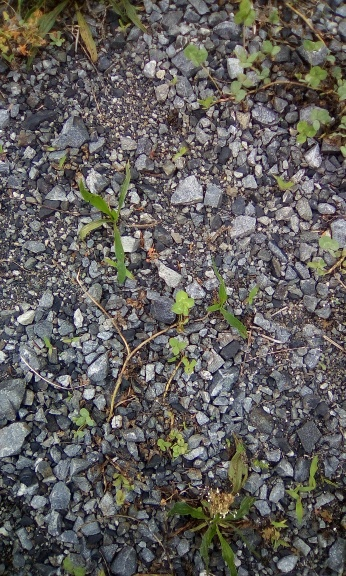4leaf: (169, 290, 195, 316)
